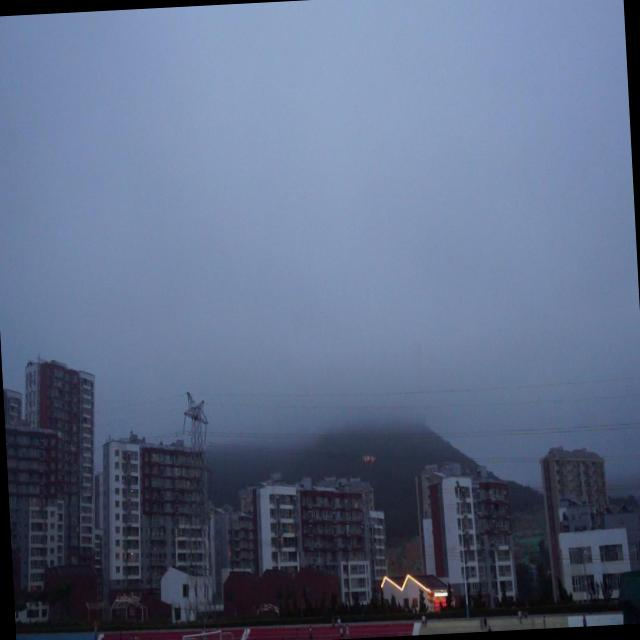drone: (359, 449, 377, 468)
